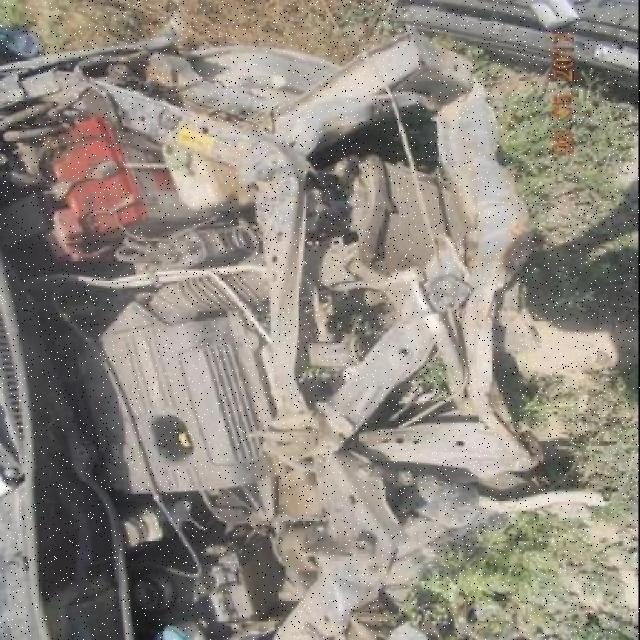damage: (35, 27, 551, 634)
